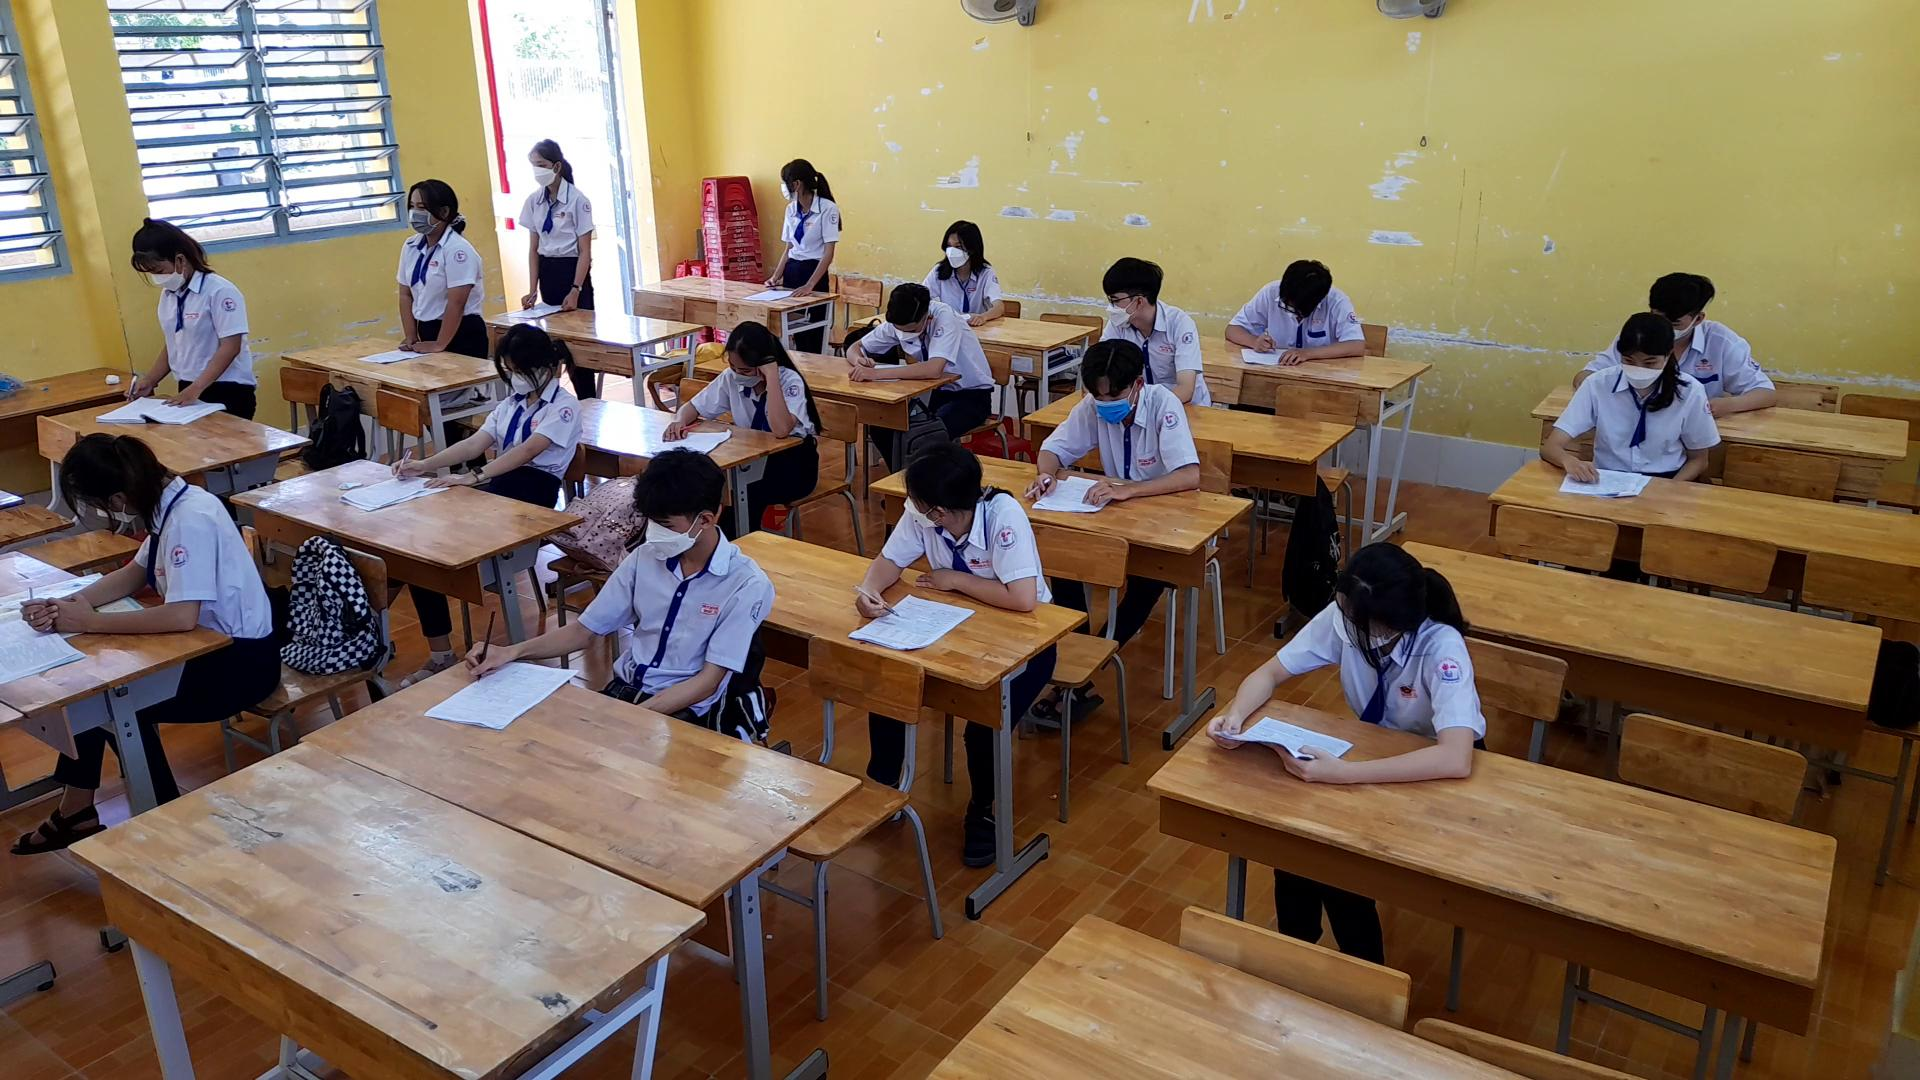Bend Over The Desk: (54, 425, 174, 531)
Hand Under Table: (633, 580, 767, 705), (1662, 375, 1720, 489)
Look Around: (1087, 243, 1167, 335)
Normal: (1193, 525, 1503, 789), (1022, 332, 1203, 516), (458, 322, 582, 492), (835, 266, 993, 392), (1217, 245, 1370, 367), (934, 211, 1017, 324)
Stand Up: (123, 204, 262, 414), (380, 175, 493, 361), (495, 131, 607, 316), (748, 146, 851, 301)
Wave: (757, 352, 803, 443)
